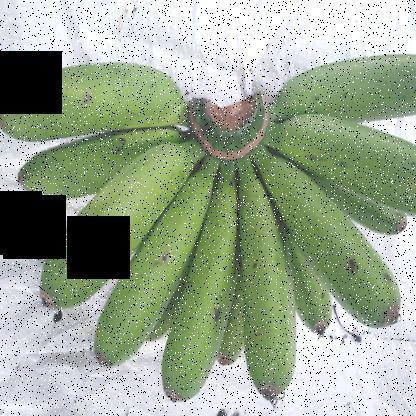unripe: (28, 132, 199, 320), (85, 174, 209, 376), (249, 179, 415, 329), (145, 162, 241, 415), (1, 36, 201, 154), (252, 116, 415, 233), (230, 165, 303, 415), (263, 46, 416, 131)
